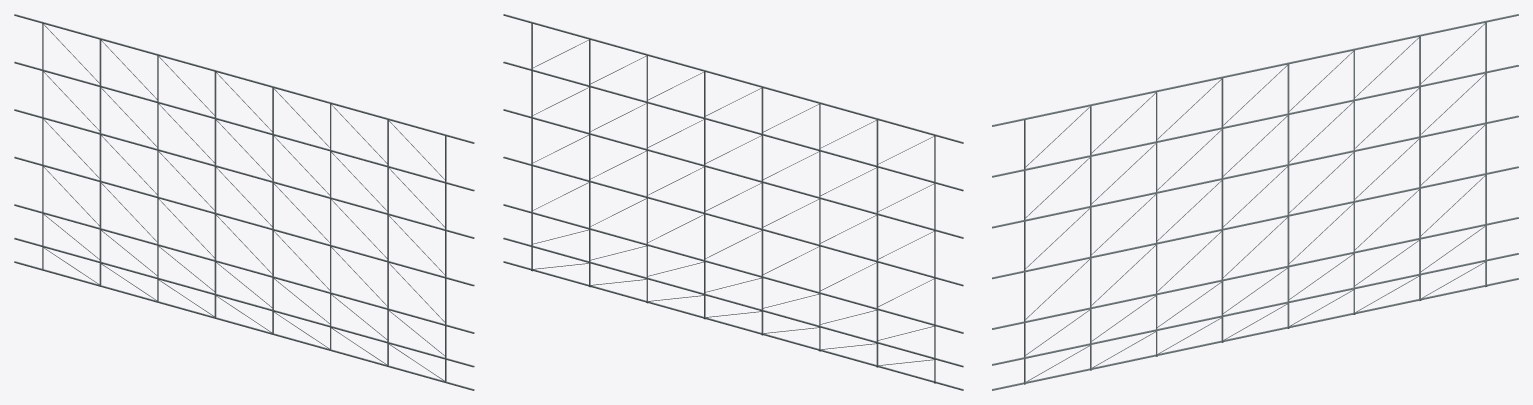
File: G7_Completion_Prior_G7_MiddleExterior_E13_r001.glb
3 renders of one model, left to right at view 1: azimuth 30°, elevation 25°; view 2: azimuth 210°, elevation 25°; view 3: azimuth 270°, elevation 25°, orthographic. The views are drawn at different scales.
Visible parts, largest first — view 1: G7_MiddleExterior_E13_frame; view 2: G7_MiddleExterior_E13_frame; view 3: G7_MiddleExterior_E13_frame.
Part boxes in pixels (x1,y1,x2,y2): G7_MiddleExterior_E13_frame: (14, 14, 474, 390); G7_MiddleExterior_E13_frame: (503, 14, 963, 390); G7_MiddleExterior_E13_frame: (992, 14, 1518, 390).
Bounding box in the file's own units: 40.13 × 44.5 × 79.98.
2 materials, 2 textured.
